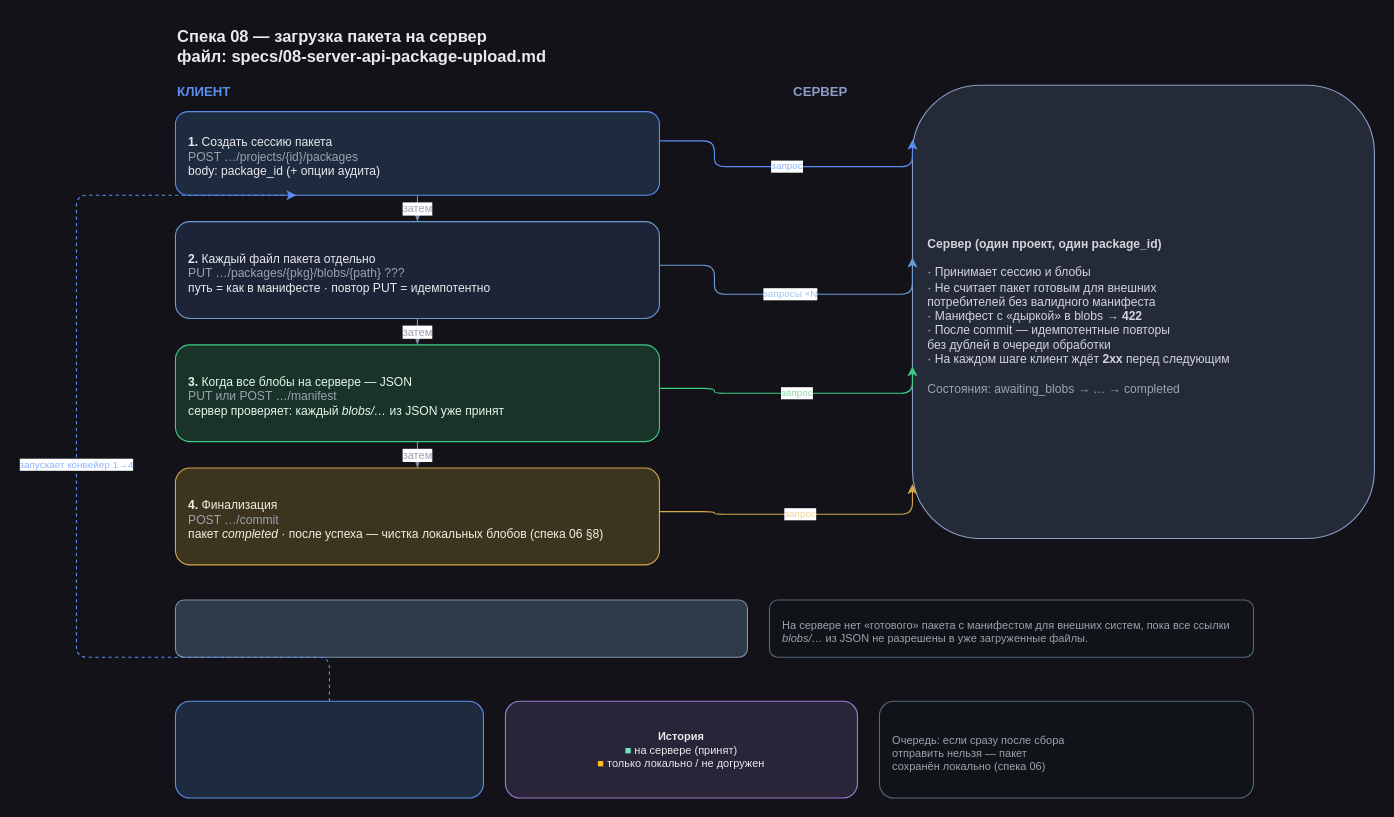
The diagram is 1394 pixels wide and 817 high, and some of its shapes have lost their labels. The shapes that lost their labels are listed below. From the top down, each one's box as (x1, y1, x2, y2) in pixels, then its label:
(174, 599, 747, 657): На клиенте: учёт статуса каждого блоба и пакета (докачка после обрыва сети).
(174, 700, 483, 798): Экран «Загрузка» неотправленные пакеты «Все» / выбранные → шаги 1–4
